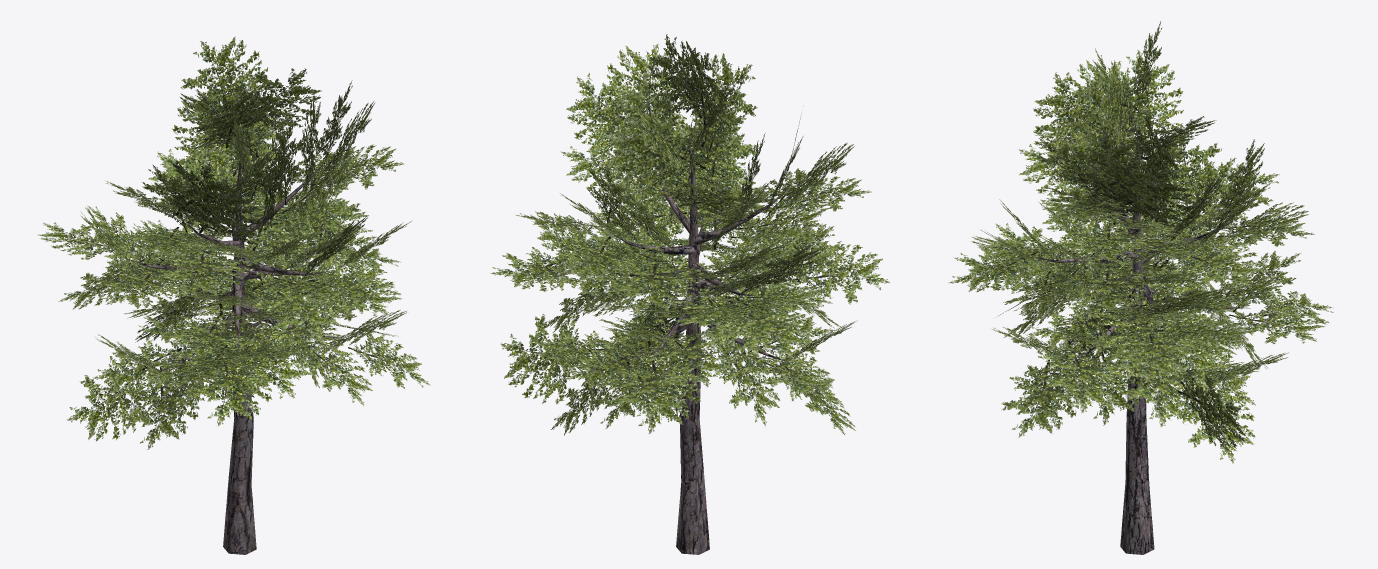
Rendered from Tree.obj.
3 renders of one model, left to right at view 1: azimuth 30°, elevation 25°; view 2: azimuth 150°, elevation 25°; view 3: azimuth 270°, elevation 25°, orthographic.
Parts seen in each view (by area): view 1: leaves_Leav_material_0, tree_tree_material_0; view 2: leaves_Leav_material_0, tree_tree_material_0; view 3: leaves_Leav_material_0, tree_tree_material_0.
Boxes of the visible parts, x1,y1,x2,y2 form: leaves_Leav_material_0: [37, 36, 430, 449]; tree_tree_material_0: [128, 127, 343, 554]; leaves_Leav_material_0: [490, 34, 889, 435]; tree_tree_material_0: [600, 116, 792, 554]; leaves_Leav_material_0: [948, 21, 1333, 463]; tree_tree_material_0: [1033, 118, 1250, 554].
Bounding box in the file's own units: 1752 × 2471 × 1796.
2 materials, 2 textured.
